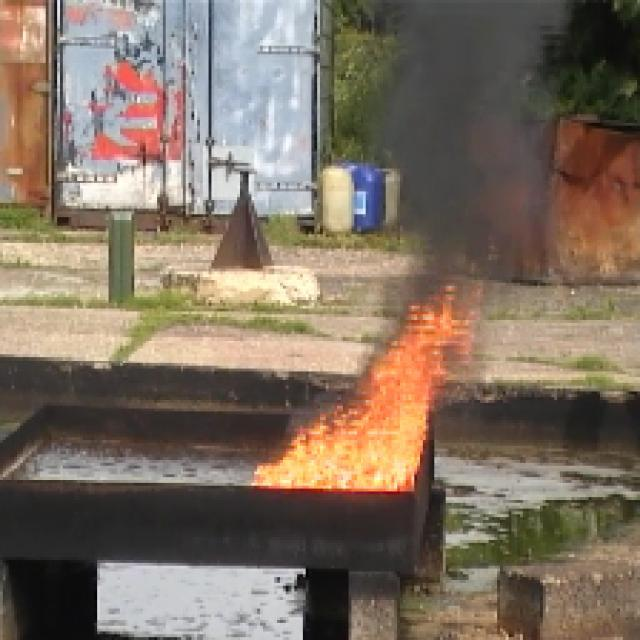Fire: (260, 278, 453, 488)
Smoke: (394, 5, 536, 261)
